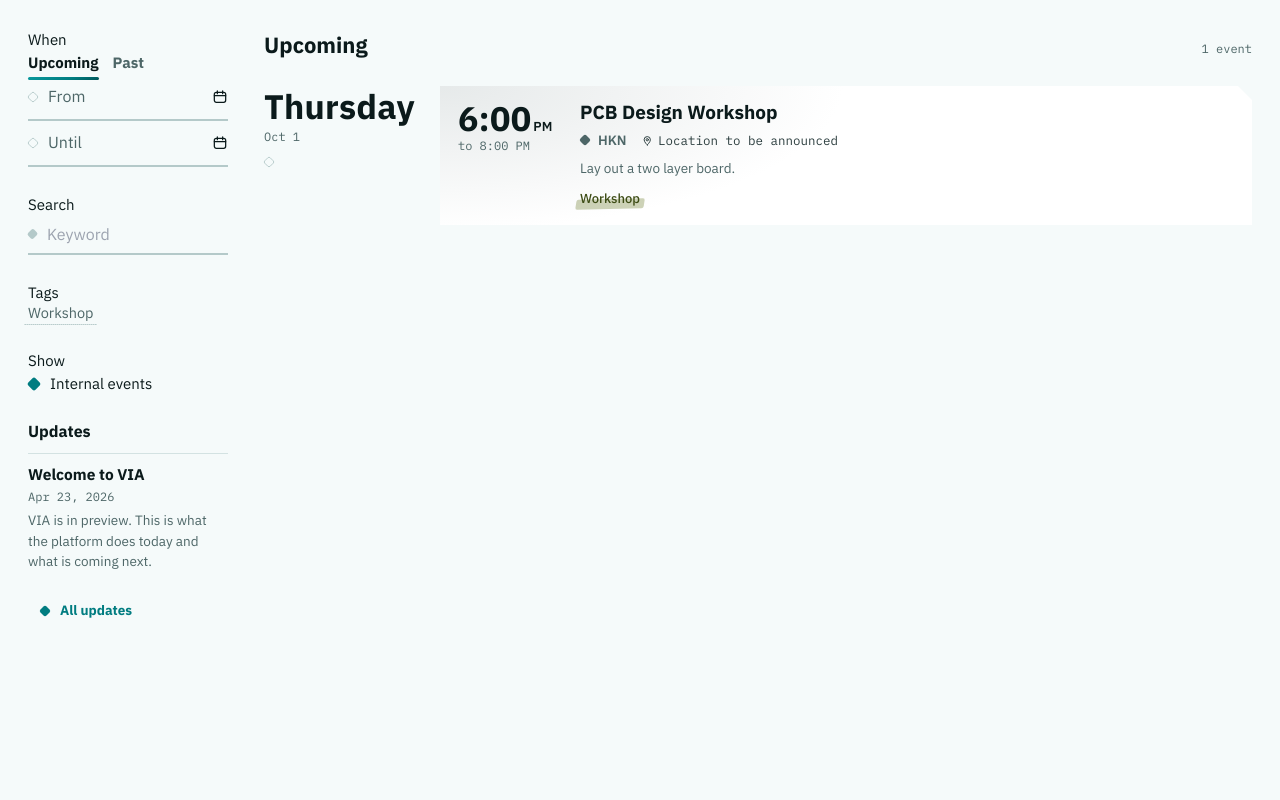
Scenario: Home › asks for the archive when the reader switches to it
Click the button "Past". click: coordinates (128, 63)
box: [113,51,144,75]
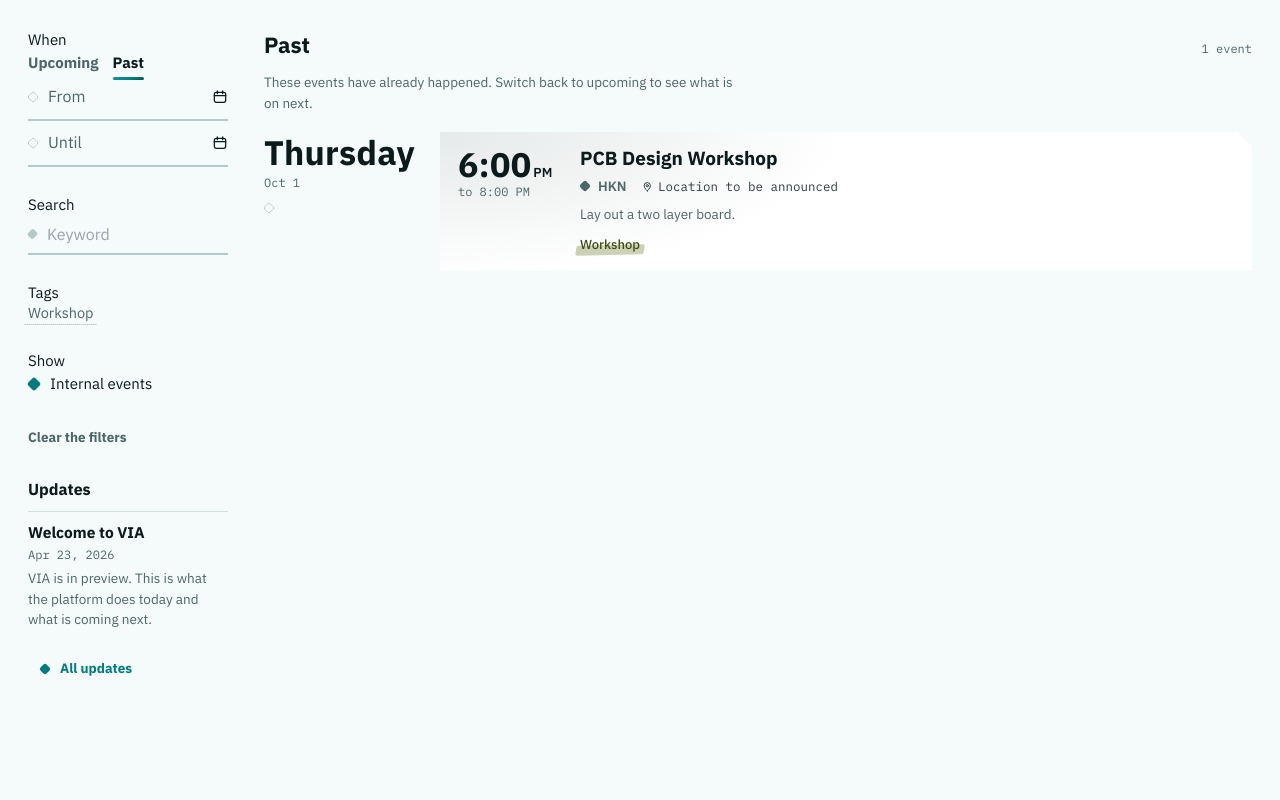
expect the heading "Past" is shown: met, box [264,28,310,62]
